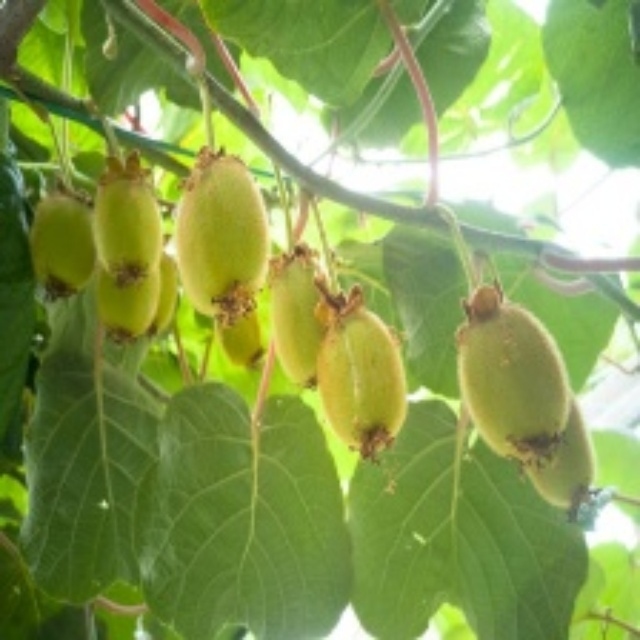kiwi: (456, 297, 608, 519), (278, 252, 409, 455), (171, 151, 267, 375), (91, 150, 187, 357), (30, 173, 99, 308)
